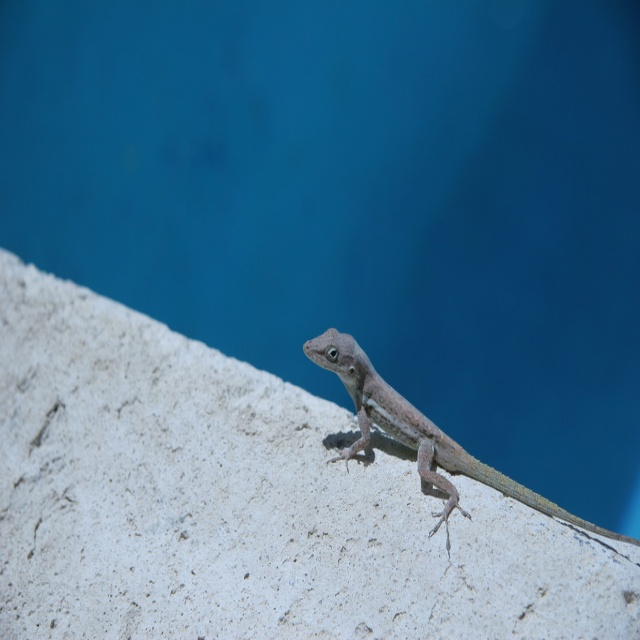Lizard: (302, 328, 639, 546)
